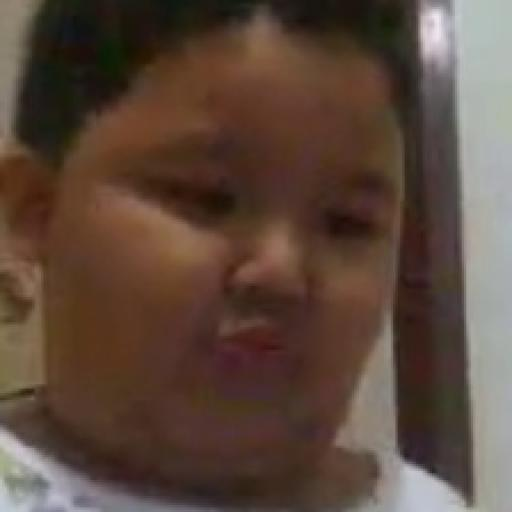Autism: (0, 0, 439, 482)
